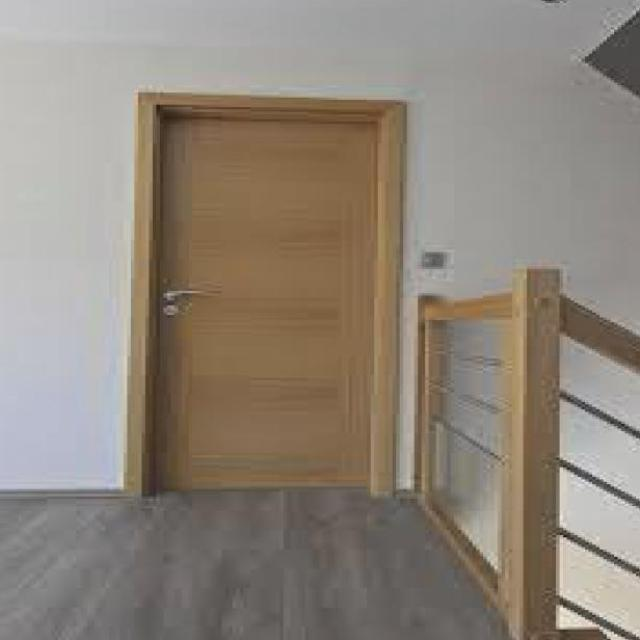door: (152, 101, 389, 493)
